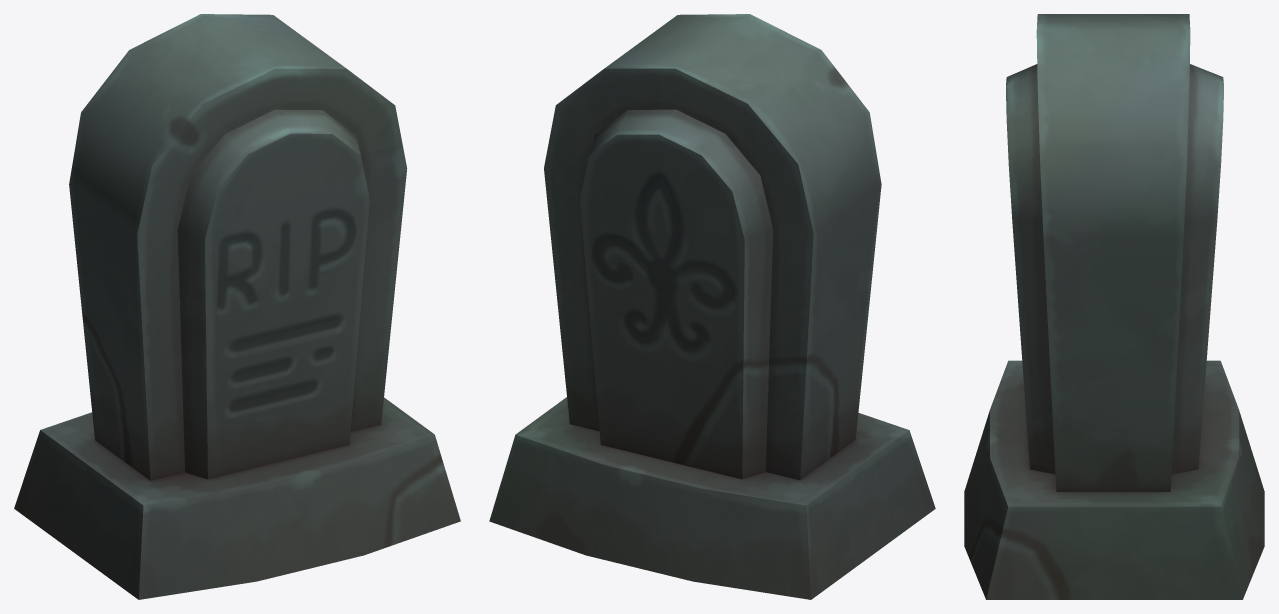
File: grave03.fbx
3 views of the same model, side by side, from view 1: azimuth 30°, elevation 25°; view 2: azimuth 150°, elevation 25°; view 3: azimuth 270°, elevation 25° (orthographic). The views are drawn at different scales.
Visible parts, largest first — view 1: grave03; view 2: grave03; view 3: grave03.
Part boxes in pixels (x1,y1,x2,y2): grave03: [14, 14, 460, 599]; grave03: [489, 14, 935, 599]; grave03: [964, 14, 1264, 599].
Size of the model in its own units: 86.12 by 121 by 67.63.
